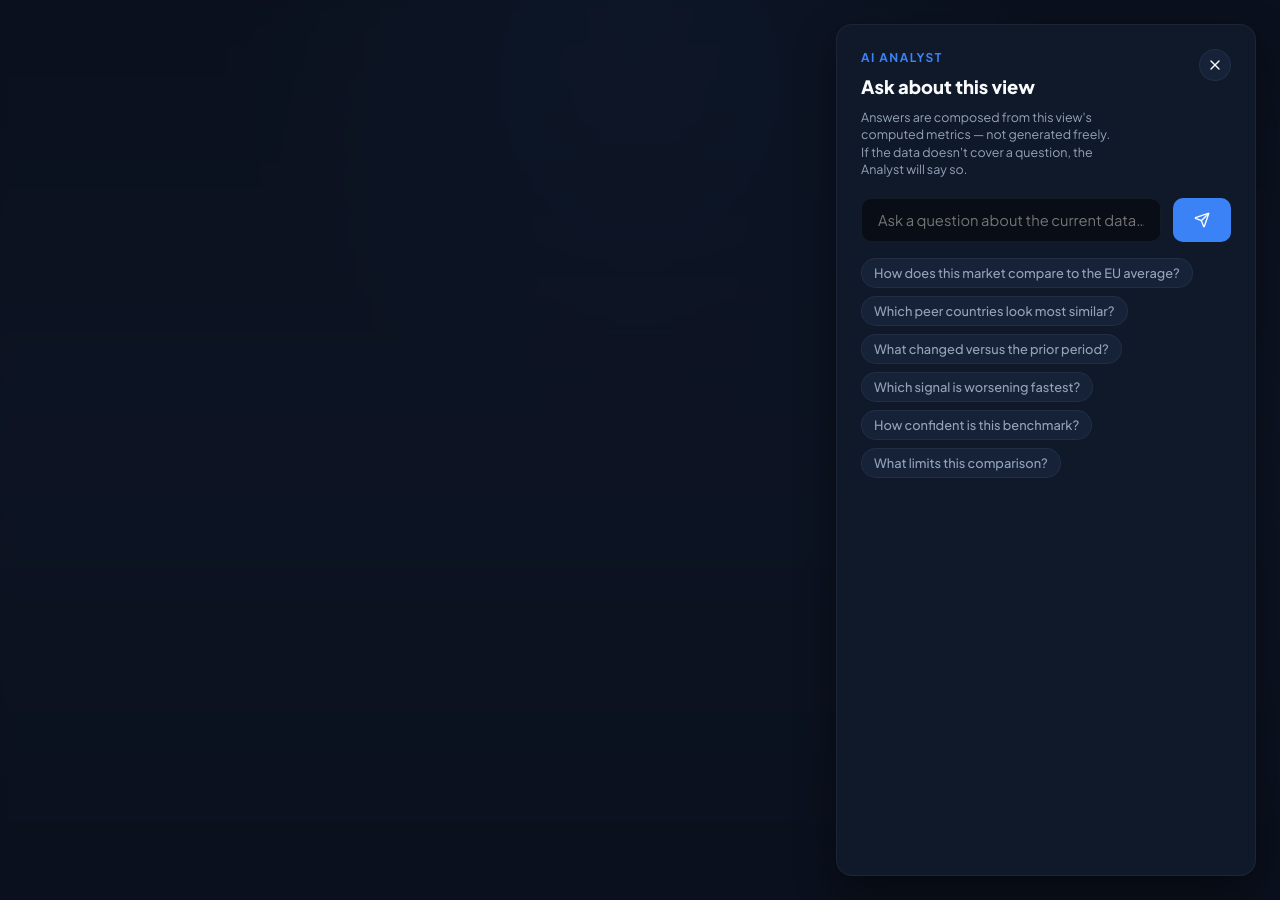
Scenario: CopilotPanel › submits question when suggested question chip clicked
Step 1. Click the button "Which peer countries look most similar?" → (994, 312), box [861,296,1128,326]
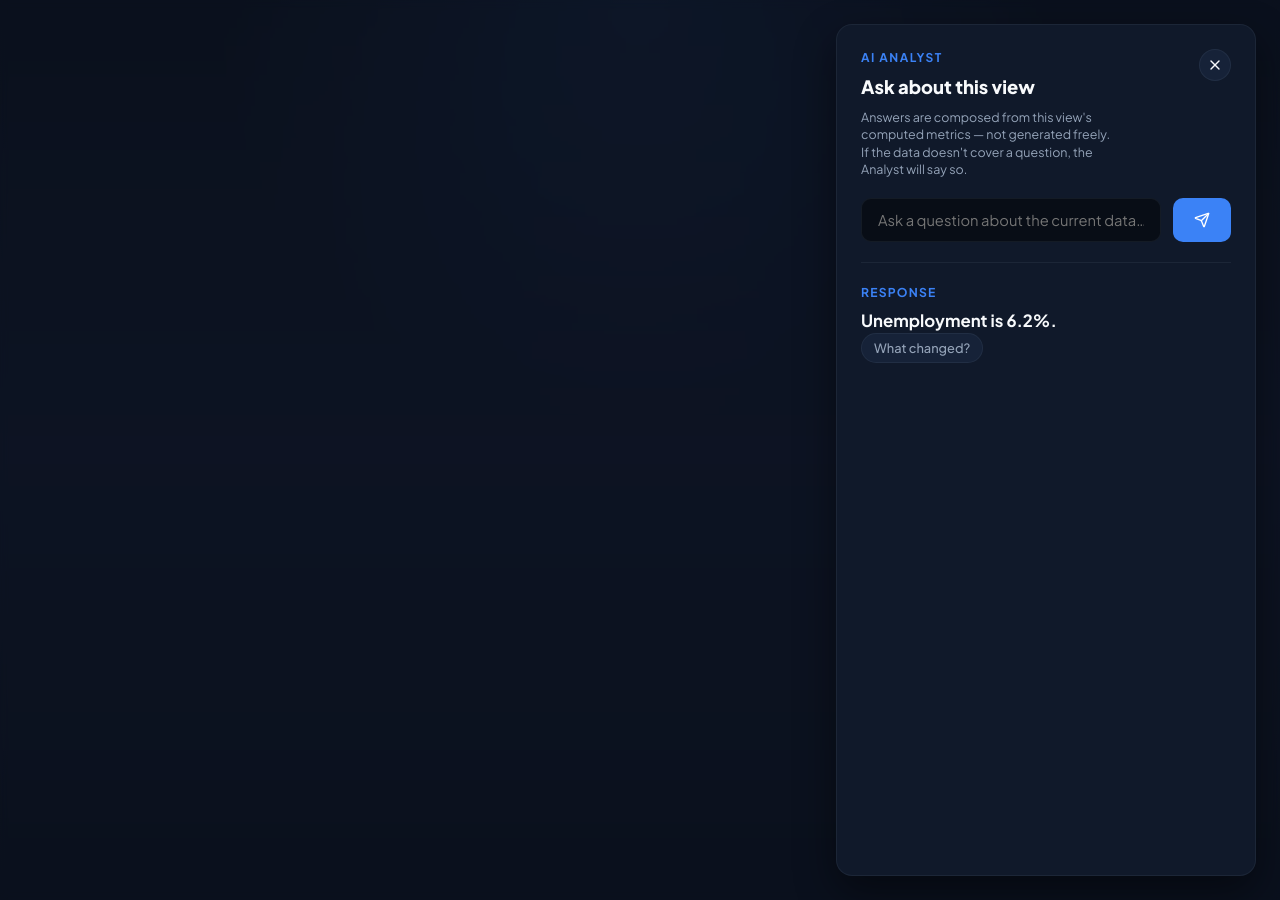
Expected: the heading "Unemployment is 6.2%." is shown, [861,310,1057,331]
